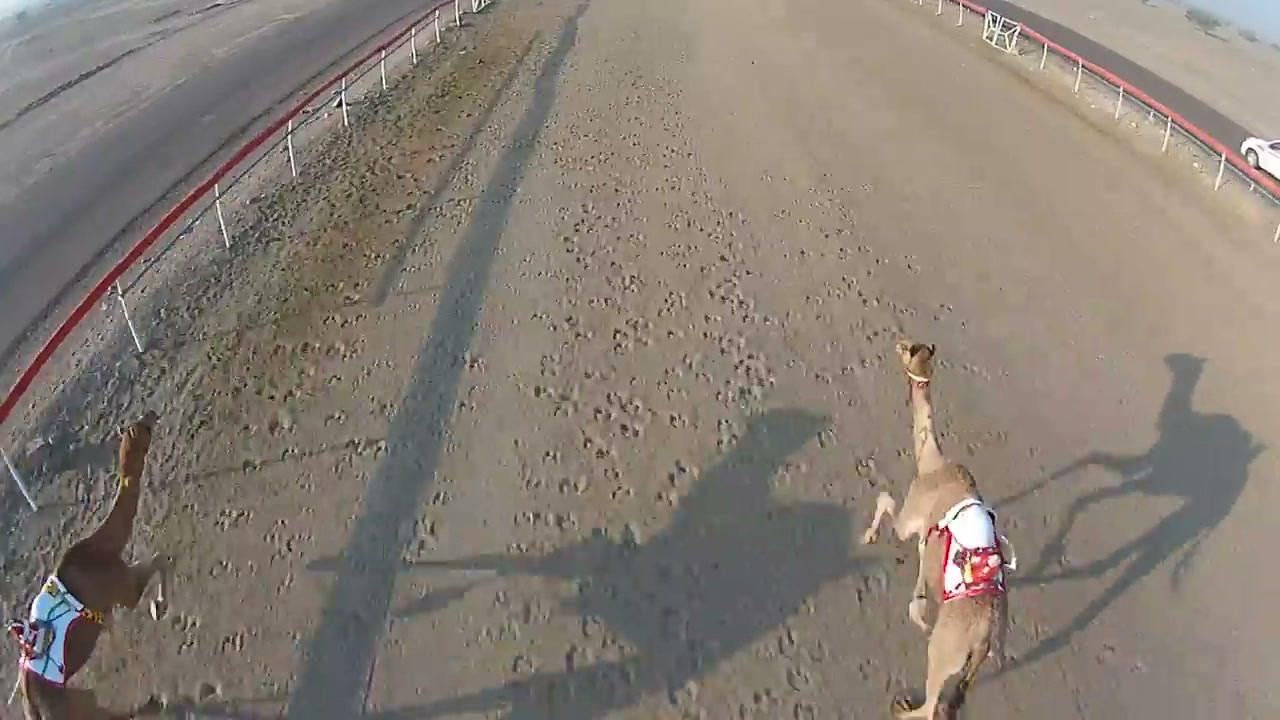animal_foot_print: (535, 73, 795, 637), (191, 276, 417, 706)
